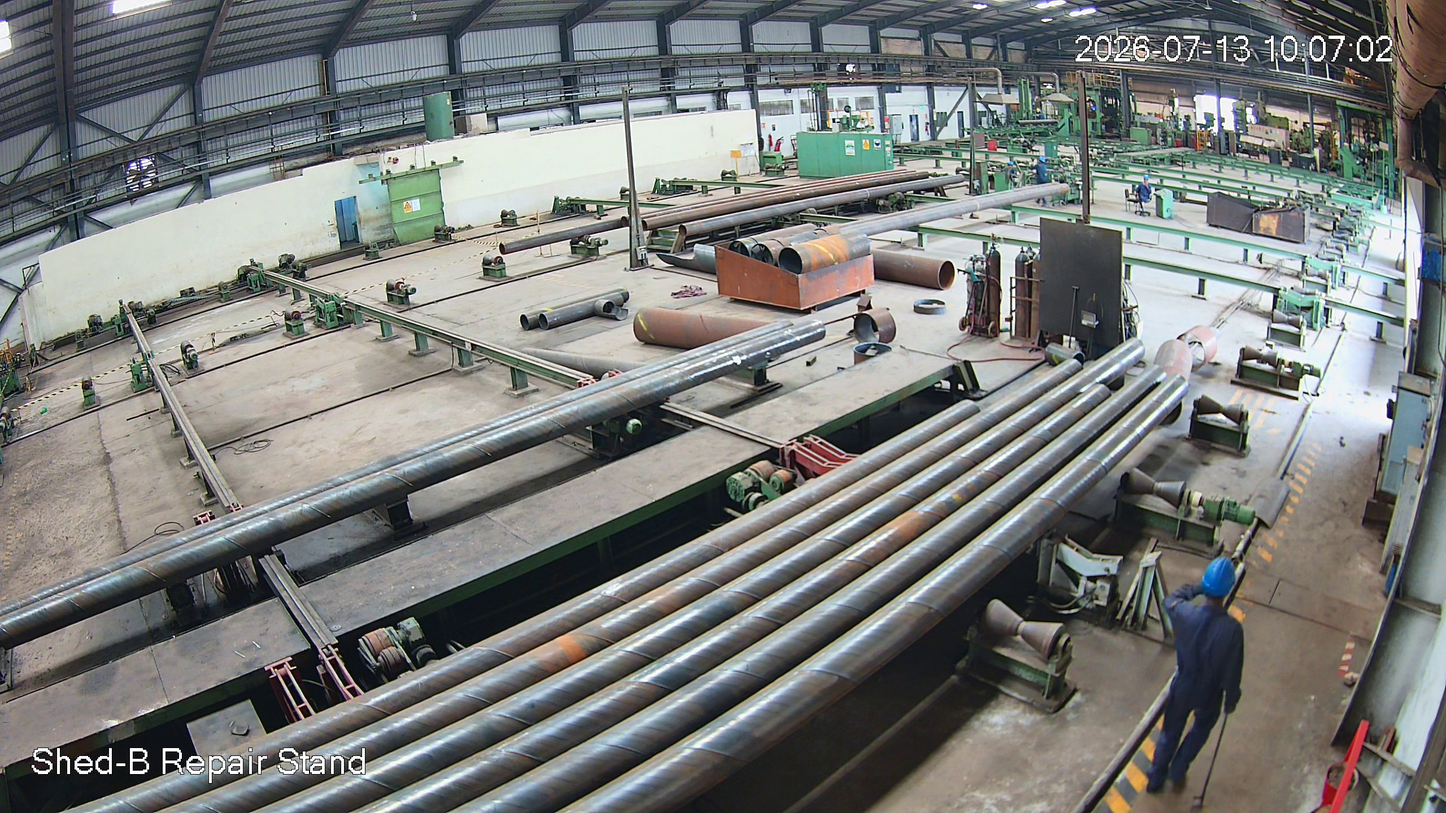Helmet: (1199, 552, 1242, 615)
Person: (1142, 561, 1255, 799)
